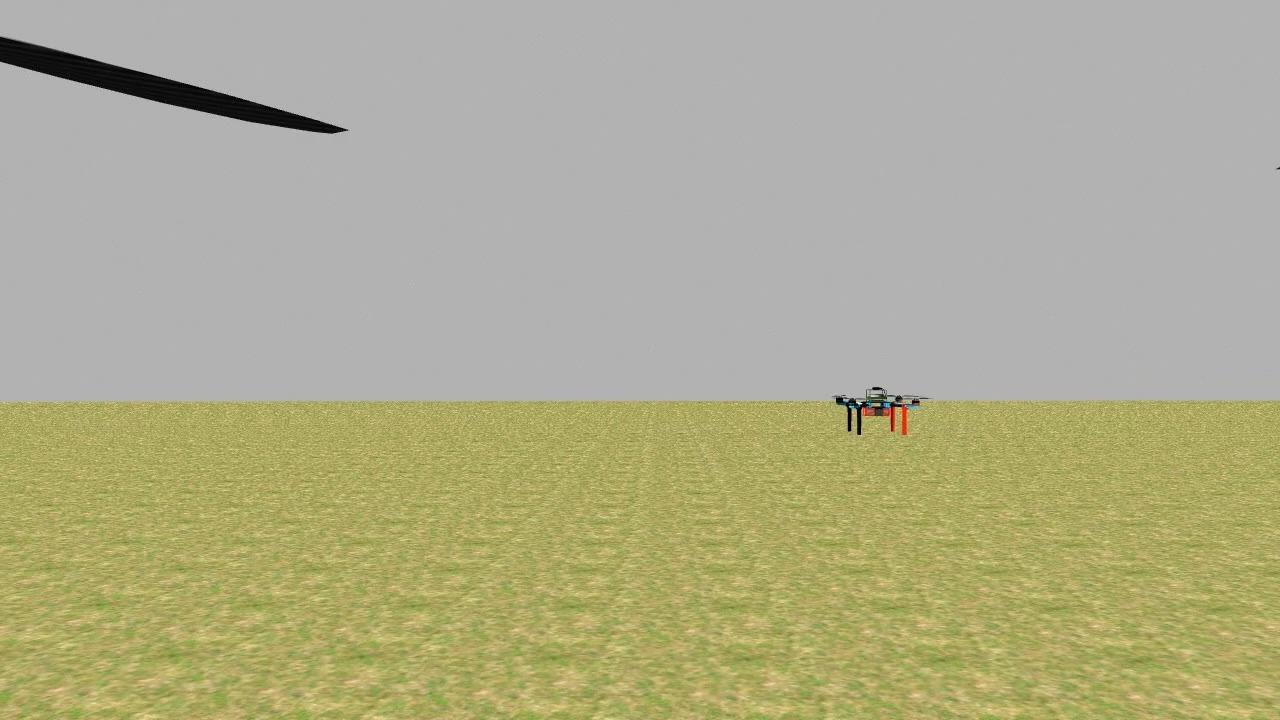UAV: (826, 375, 932, 444)
